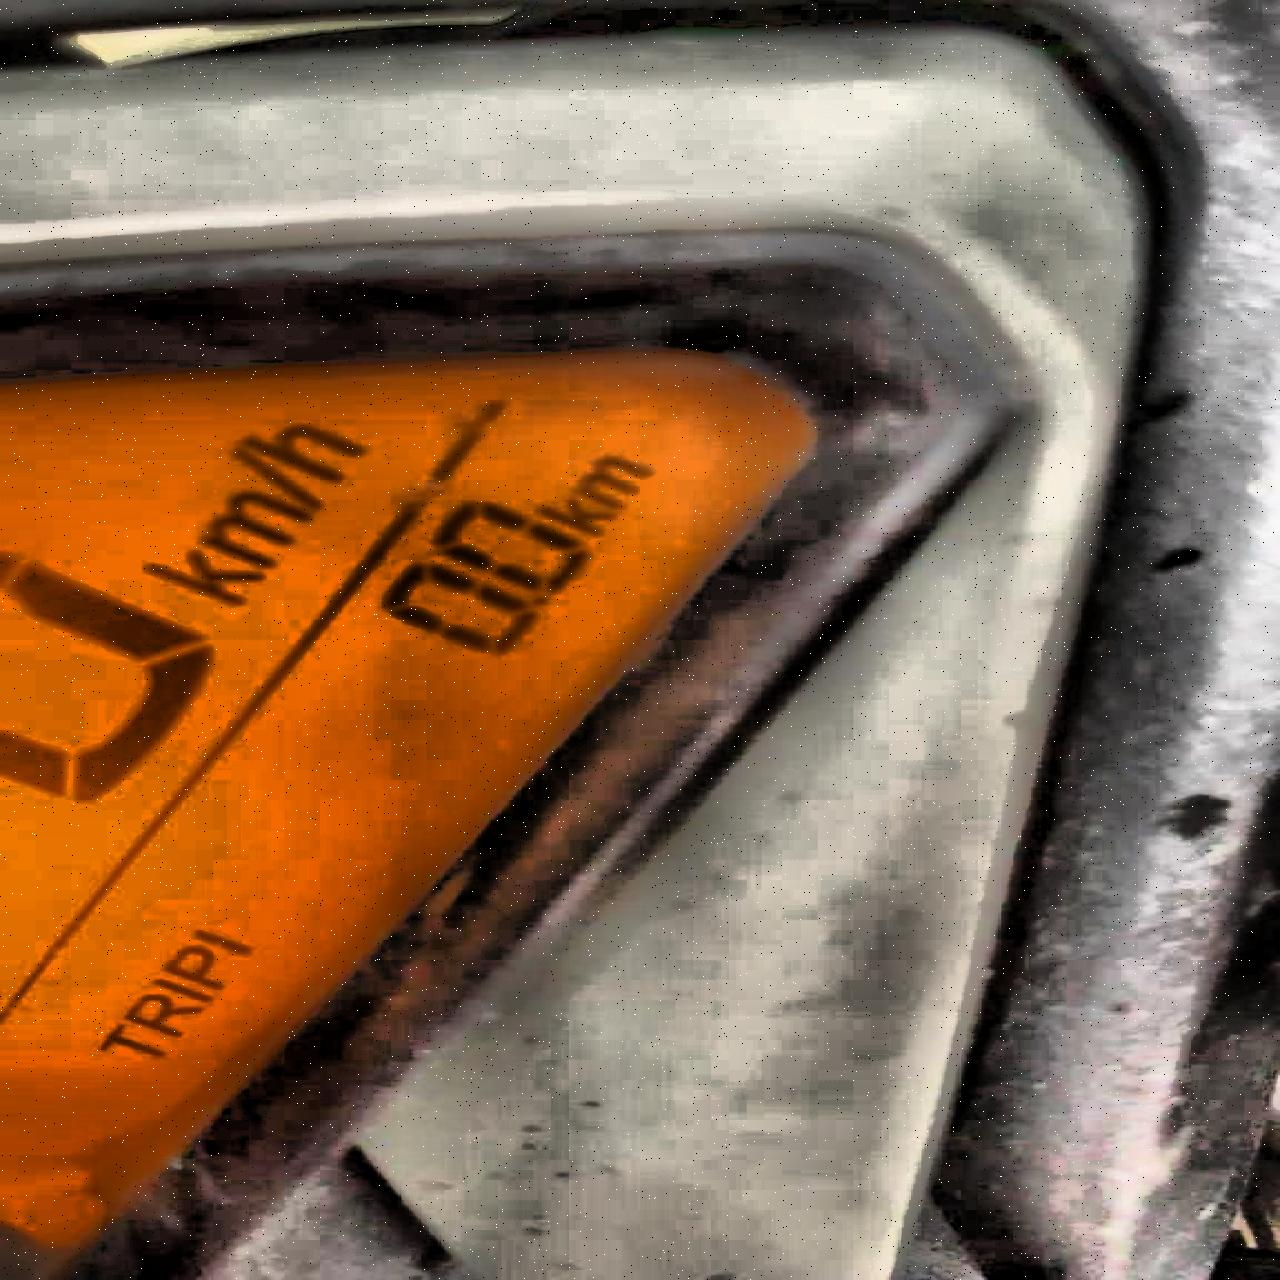-: (526, 592, 556, 607)
0: (427, 498, 588, 597), (373, 561, 531, 656)
1: (178, 924, 268, 953)
X: (236, 416, 369, 482), (198, 497, 305, 567), (124, 551, 260, 606), (209, 445, 318, 510), (580, 450, 662, 506), (120, 993, 200, 1034), (159, 944, 222, 993), (545, 491, 613, 531), (91, 1022, 159, 1058), (149, 975, 209, 1002)
odometer: (0, 306, 860, 1265)
